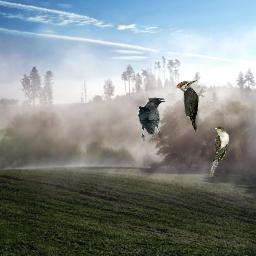Crow: (138, 96, 166, 141)
Cuckoo: (209, 126, 229, 177)
Woodpecker: (176, 80, 206, 132)
